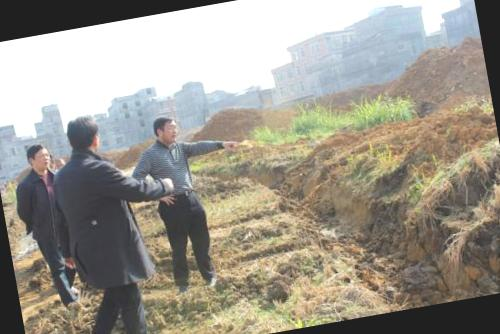no_helmet: (61, 112, 108, 161), (149, 110, 184, 148), (22, 140, 54, 178)
